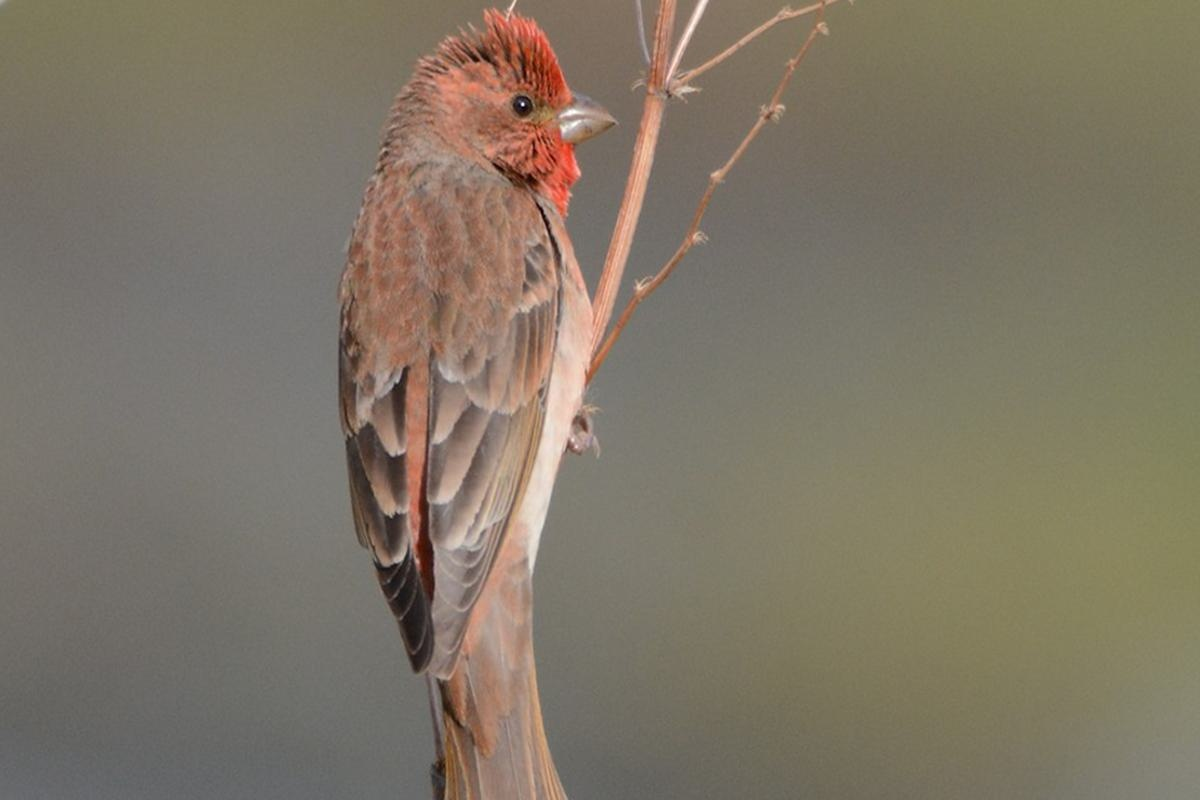rosefinch: (326, 17, 643, 766)
